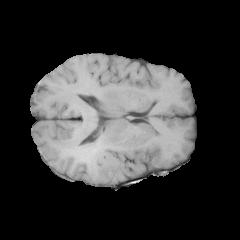glioma: (64, 120, 159, 183)
